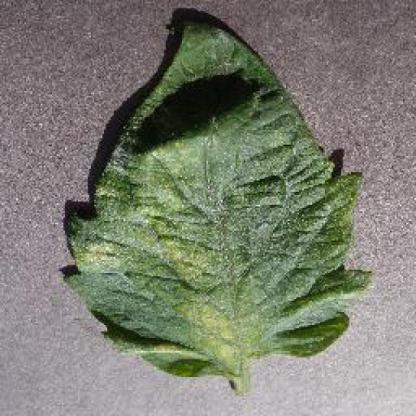Tomato_Spider_Mites: (65, 21, 372, 374)
